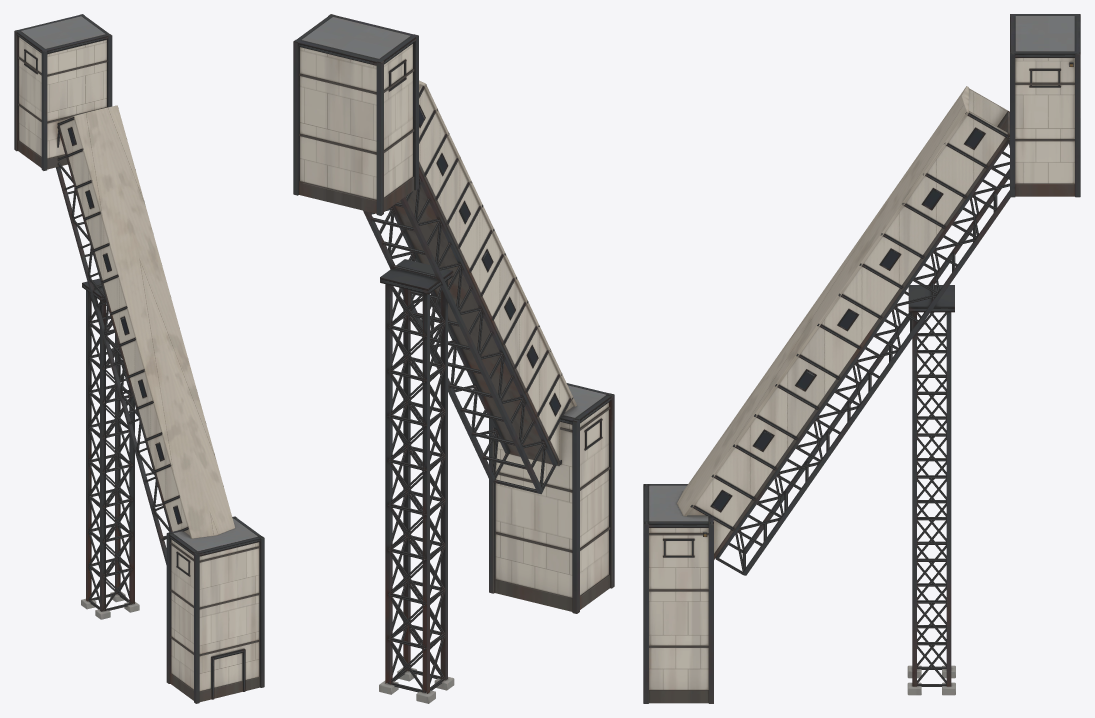
File: skipGallery.glb
The picture shows the model from 3 angles, left to right: view 1: azimuth 30°, elevation 25°; view 2: azimuth 150°, elevation 25°; view 3: azimuth 270°, elevation 25°; orthographic projection. The views are drawn at different scales.
Parts seen in each view (by area): view 1: skipGallery; view 2: skipGallery; view 3: skipGallery.
Boxes of the visible parts, <box> form: skipGallery: <box>14,14,264,703</box>; skipGallery: <box>293,14,614,703</box>; skipGallery: <box>643,14,1080,703</box>.
Size of the model in its own units: 6.19 by 46.23 by 28.15.
Materials: 1 (1 with a texture image).
